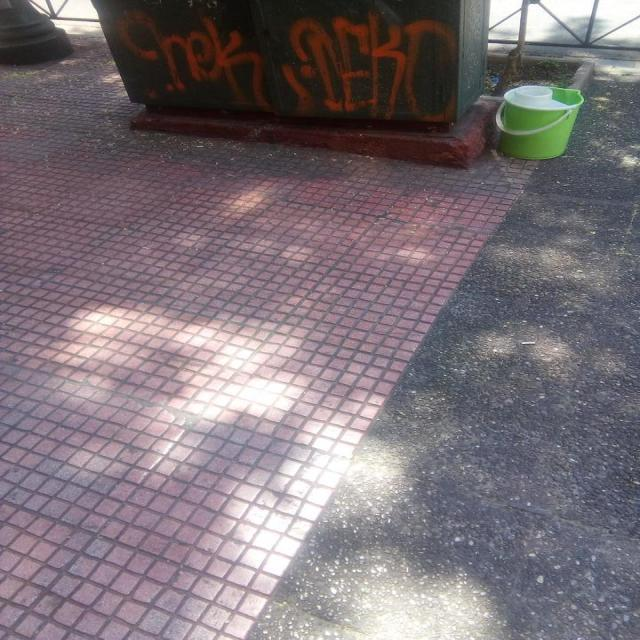nonspitting: (114, 8, 456, 124)
